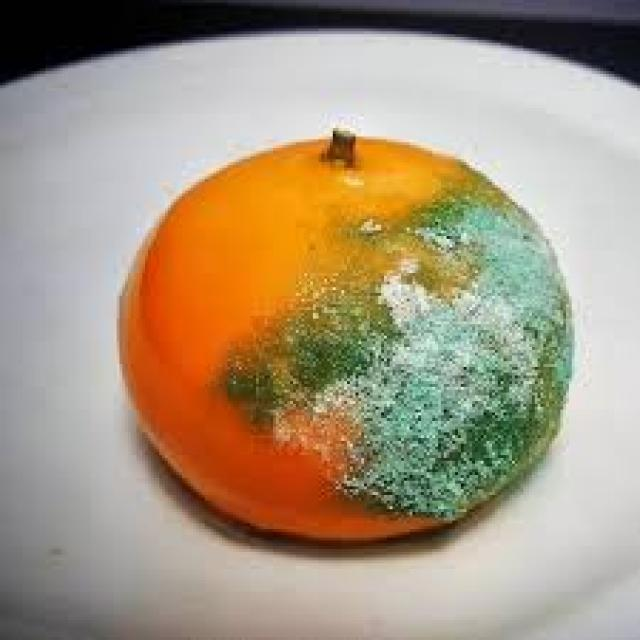organic waste: (111, 128, 572, 546)
